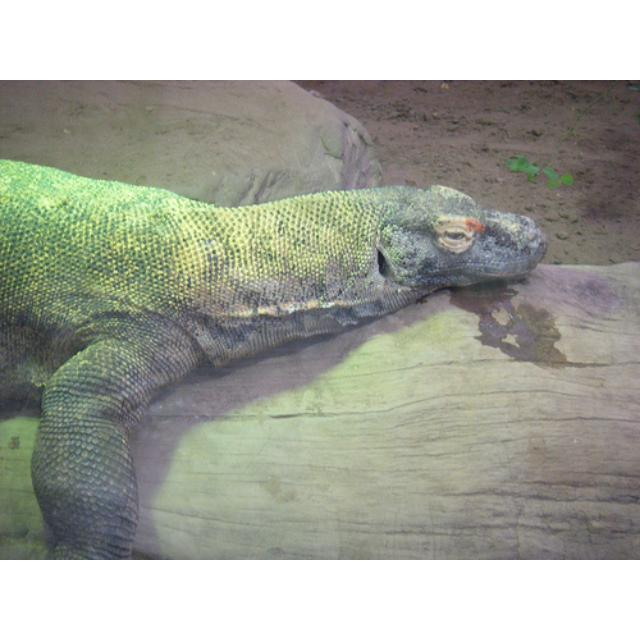KomodoDragon: (1, 153, 548, 558)
